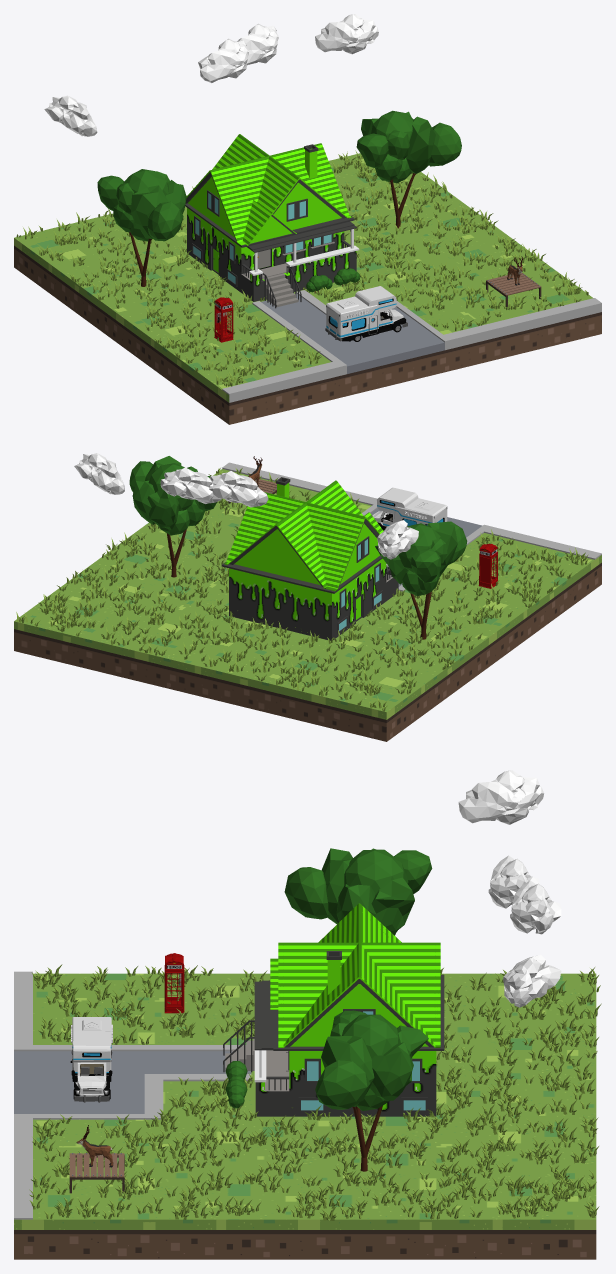
The picture shows the model from 3 angles, top to bottom: view 1: azimuth 30°, elevation 25°; view 2: azimuth 150°, elevation 25°; view 3: azimuth 270°, elevation 25°; orthographic projection. The views are drawn at different scales.
Visible parts, largest first — view 1: Cube.006, Cube.754, Circle.012_Grass_0.192, Cube.007, tree, tree.001, VEHICLES_CAMPER, OBJRANDOM_PHONEBOOTH, Cube.009; view 2: Cube.006, Cube.754, Circle.012_Grass_0.192, Cube.007, tree.001, tree, VEHICLES_CAMPER, OBJRANDOM_PHONEBOOTH; view 3: Cube.006, Circle.012_Grass_0.192, Cube.754, tree, Cube.007, tree.001, VEHICLES_CAMPER, Cube.009, OBJRANDOM_PHONEBOOTH.
Boxes of the visible parts, bbox=[...] form: Cube.006: bbox=[14, 153, 601, 424]; Cube.754: bbox=[185, 134, 359, 308]; Circle.012_Grass_0.192: bbox=[16, 150, 588, 386]; Cube.007: bbox=[44, 14, 378, 136]; tree: bbox=[356, 110, 461, 228]; tree.001: bbox=[97, 169, 186, 286]; VEHICLES_CAMPER: bbox=[325, 286, 407, 341]; OBJRANDOM_PHONEBOOTH: bbox=[214, 297, 233, 342]; Cube.009: bbox=[486, 272, 541, 306]; Cube.006: bbox=[14, 462, 601, 741]; Cube.754: bbox=[221, 477, 398, 640]; Circle.012_Grass_0.192: bbox=[16, 468, 588, 711]; Cube.007: bbox=[74, 453, 418, 559]; tree.001: bbox=[375, 521, 467, 639]; tree: bbox=[129, 456, 216, 577]; VEHICLES_CAMPER: bbox=[372, 487, 447, 530]; OBJRANDOM_PHONEBOOTH: bbox=[478, 543, 498, 588]; Cube.006: bbox=[14, 971, 596, 1259]; Circle.012_Grass_0.192: bbox=[29, 964, 601, 1220]; Cube.754: bbox=[223, 903, 444, 1116]; tree: bbox=[315, 1010, 428, 1171]; Cube.007: bbox=[458, 770, 561, 1007]; tree.001: bbox=[284, 848, 432, 935]; VEHICLES_CAMPER: bbox=[70, 1017, 112, 1102]; Cube.009: bbox=[69, 1153, 124, 1193]; OBJRANDOM_PHONEBOOTH: bbox=[164, 953, 184, 1013].
Size of the model in its own units: 4071 by 2192 by 4040.
42 materials, 4 textured.
